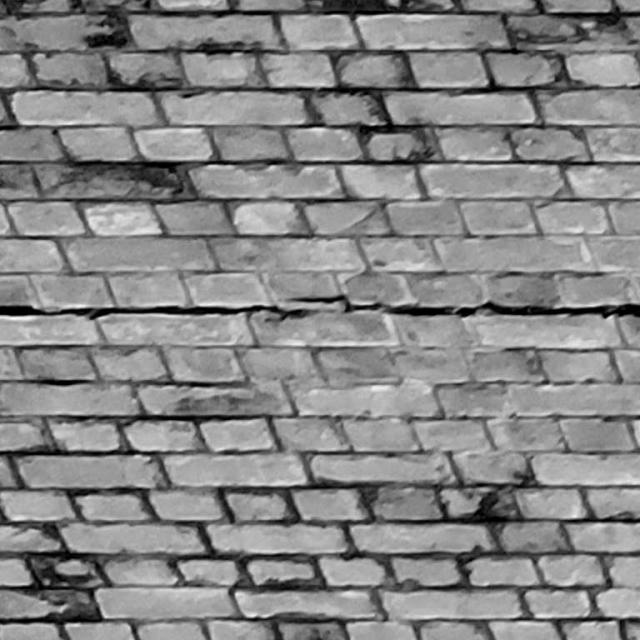crack: (1, 295, 640, 320)
